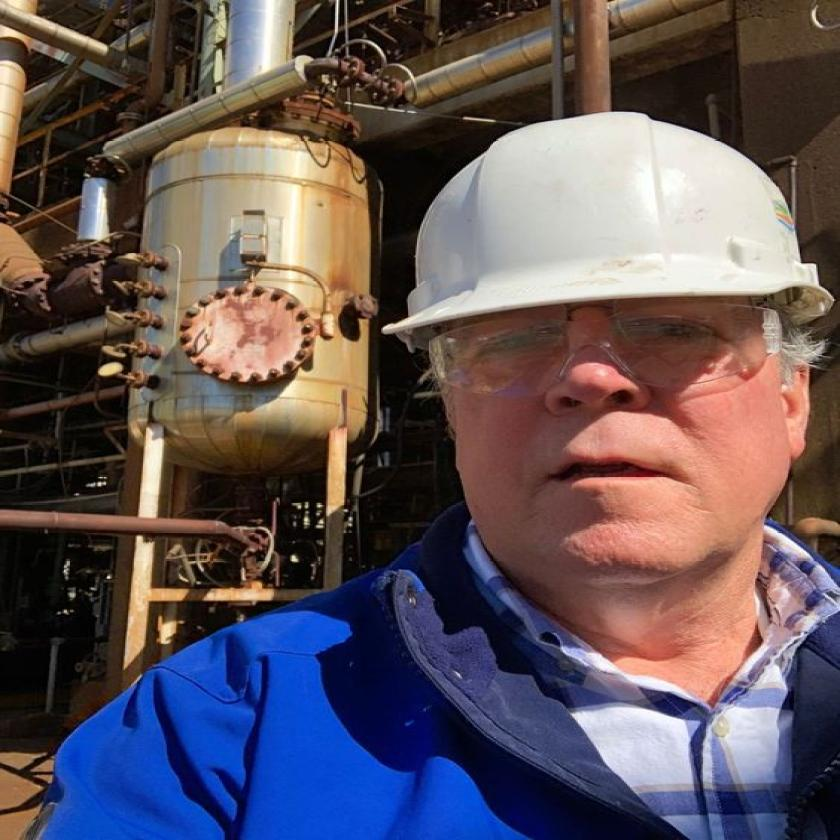Con_casco: (397, 110, 840, 616)
